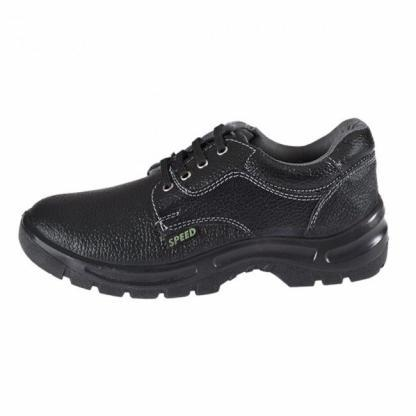bota: (18, 116, 389, 298)
